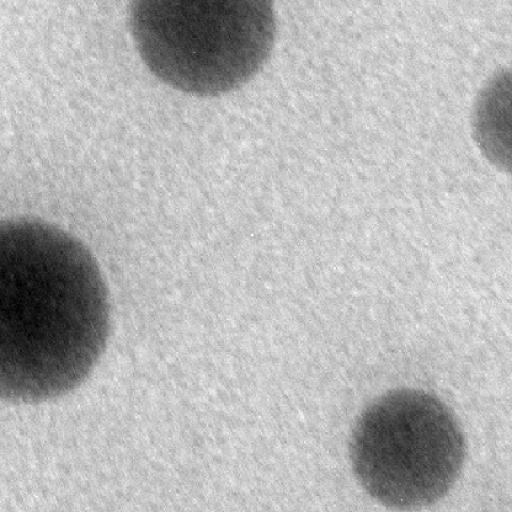Nanoparticles: (0, 214, 114, 404), (126, 0, 279, 103), (348, 387, 474, 511), (466, 60, 512, 175)
